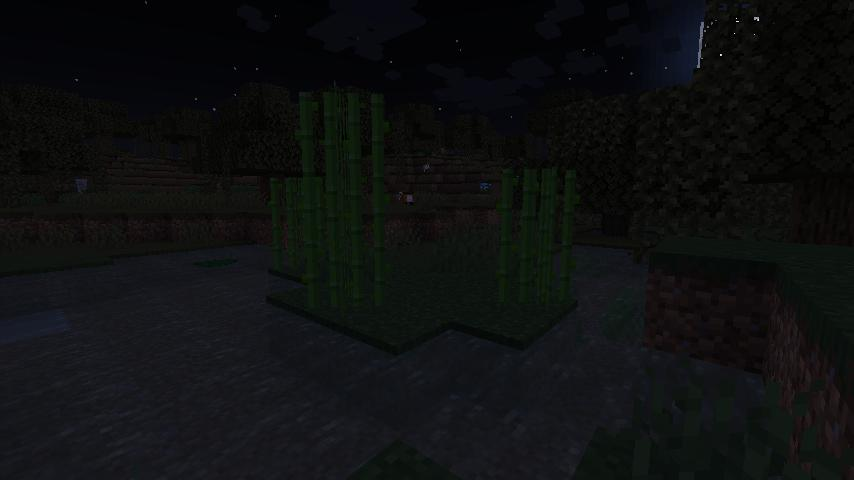chicken: (74, 177, 90, 195), (394, 191, 404, 202), (422, 162, 429, 174)
fox: (403, 193, 417, 206)
